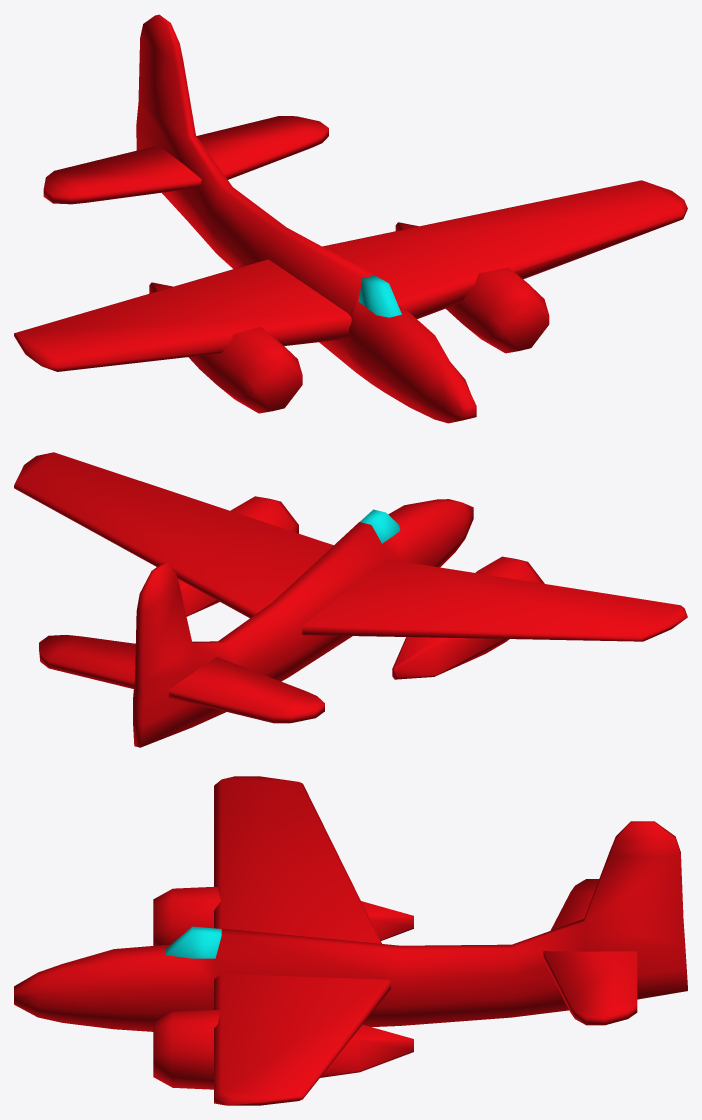
Rendered from heavyfighter.glb.
3 renders of one model, top to bottom at view 1: azimuth 30°, elevation 25°; view 2: azimuth 150°, elevation 25°; view 3: azimuth 270°, elevation 25°, orthographic. The views are drawn at different scales.
Visible parts, largest first — view 1: HF Wing, HF Fuselage, HF Tail, HF R Engine, HF L Engine, HF Cockpit; view 2: HF Wing, HF Fuselage, HF Tail, HF R Engine, HF L Engine, HF Cockpit; view 3: HF Fuselage, HF Wing, HF L Engine, HF Tail, HF R Engine, HF Cockpit.
Boxes of the visible parts, x1,y1,x2,y2 form: HF Wing: [14, 180, 687, 371]; HF Fuselage: [136, 14, 476, 423]; HF Tail: [43, 116, 328, 204]; HF R Engine: [149, 282, 302, 413]; HF L Engine: [395, 222, 549, 353]; HF Cockpit: [358, 275, 401, 317]; HF Wing: [14, 452, 687, 641]; HF Fuselage: [133, 499, 473, 747]; HF Tail: [39, 635, 324, 723]; HF R Engine: [392, 556, 544, 679]; HF L Engine: [178, 496, 298, 616]; HF Cockpit: [360, 509, 400, 543]; HF Fuselage: [14, 821, 687, 1031]; HF Wing: [214, 776, 390, 1105]; HF L Engine: [153, 1010, 413, 1089]; HF Tail: [543, 879, 637, 1025]; HF R Engine: [153, 886, 413, 945]; HF Cockpit: [166, 926, 221, 958].
Bounding box in the file's own units: 10.35 × 3.07 × 9.12.
